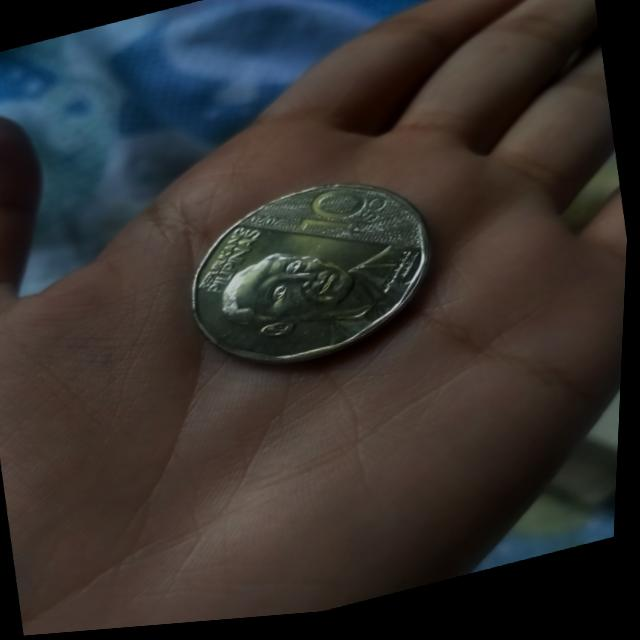10_New_Front: (215, 182, 412, 357)
